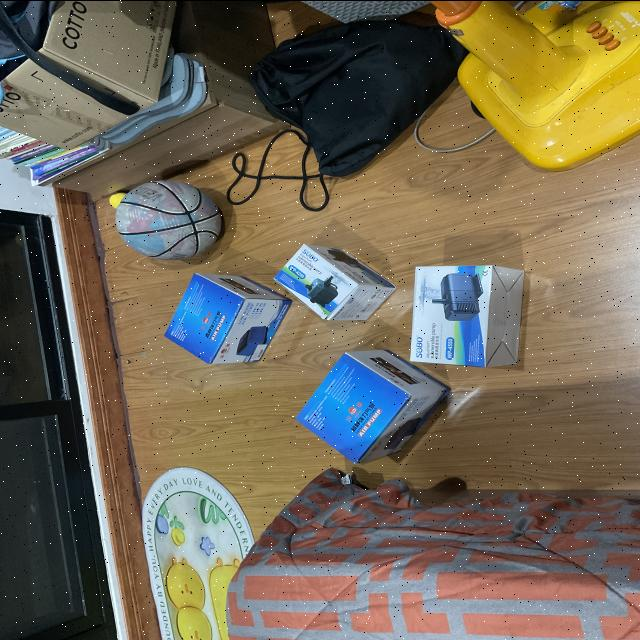SOBO_WP_4200: (396, 255, 540, 370), (275, 223, 406, 321)
YAMANO_LPP_20: (284, 349, 439, 468), (152, 268, 292, 368)
